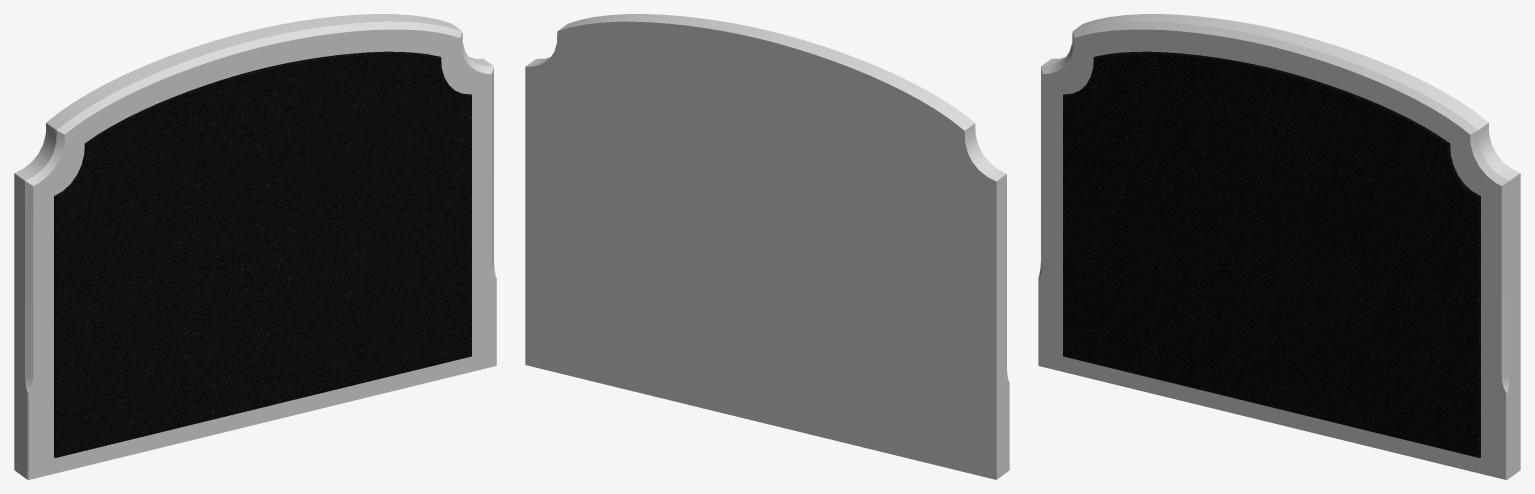
The model's file is cn07d037c494_tkf.glb.
The picture shows the model from 3 angles, left to right: view 1: azimuth 30°, elevation 25°; view 2: azimuth 150°, elevation 25°; view 3: azimuth 330°, elevation 25°; orthographic projection.
Visible parts, largest first — view 1: Pam-kombi-017_2_notexture, Pam-kombi-017; view 2: Pam-kombi-017; view 3: Pam-kombi-017_2_notexture, Pam-kombi-017.
Part boxes in pixels (<box>): Pam-kombi-017_2_notexture: <box>54,51,471,457</box>; Pam-kombi-017: <box>14,14,496,479</box>; Pam-kombi-017: <box>525,14,1009,479</box>; Pam-kombi-017_2_notexture: <box>1063,51,1480,457</box>; Pam-kombi-017: <box>1038,14,1520,479</box>.
Size of the model in its own units: 0.9 by 0.7 by 0.05.
1 material, 1 textured.
